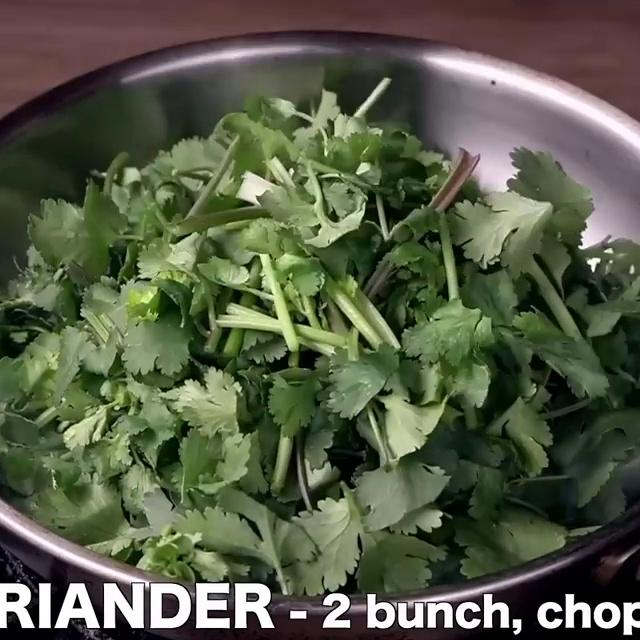cilantro: (12, 134, 637, 548)
